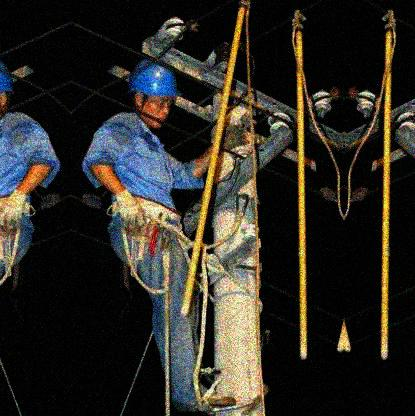helmet: (126, 57, 180, 130)
